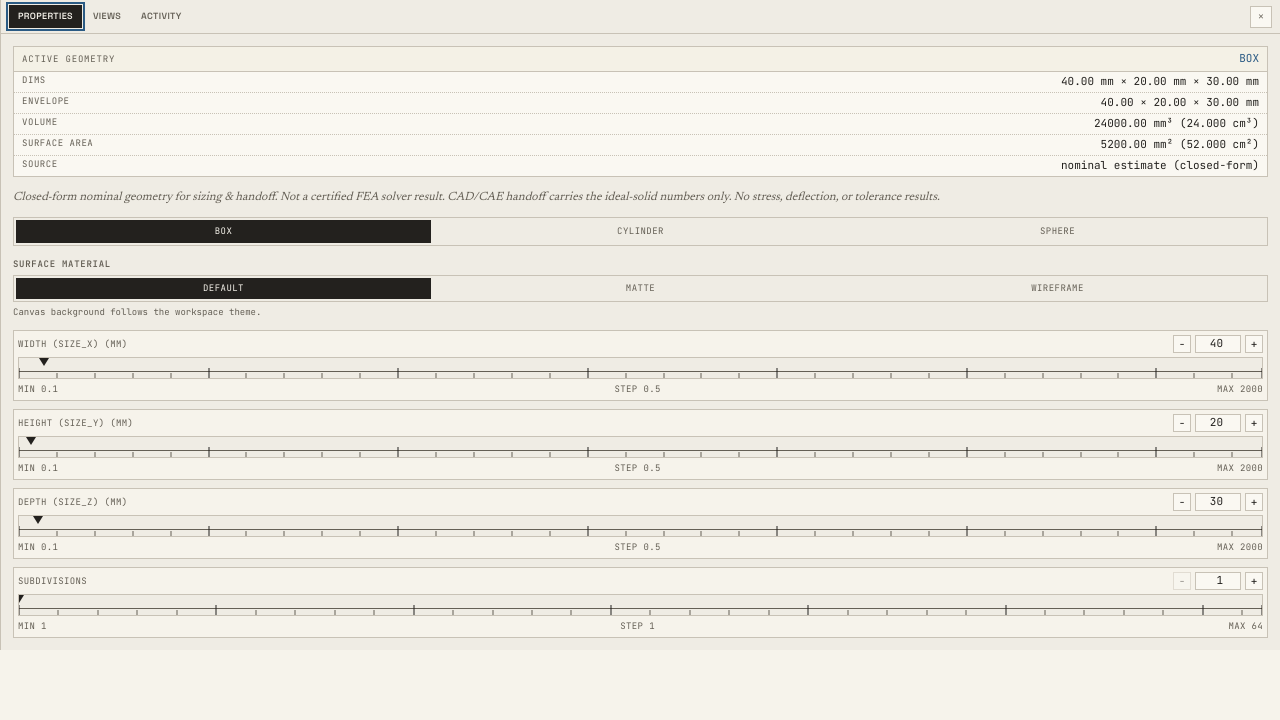
Scenario: details panel chrome › changes the visible section with the tab strip
The width and height of the screenshot is (1280, 720).
Click the tab "Views".
click(107, 16)  # box [84,5,130,28]
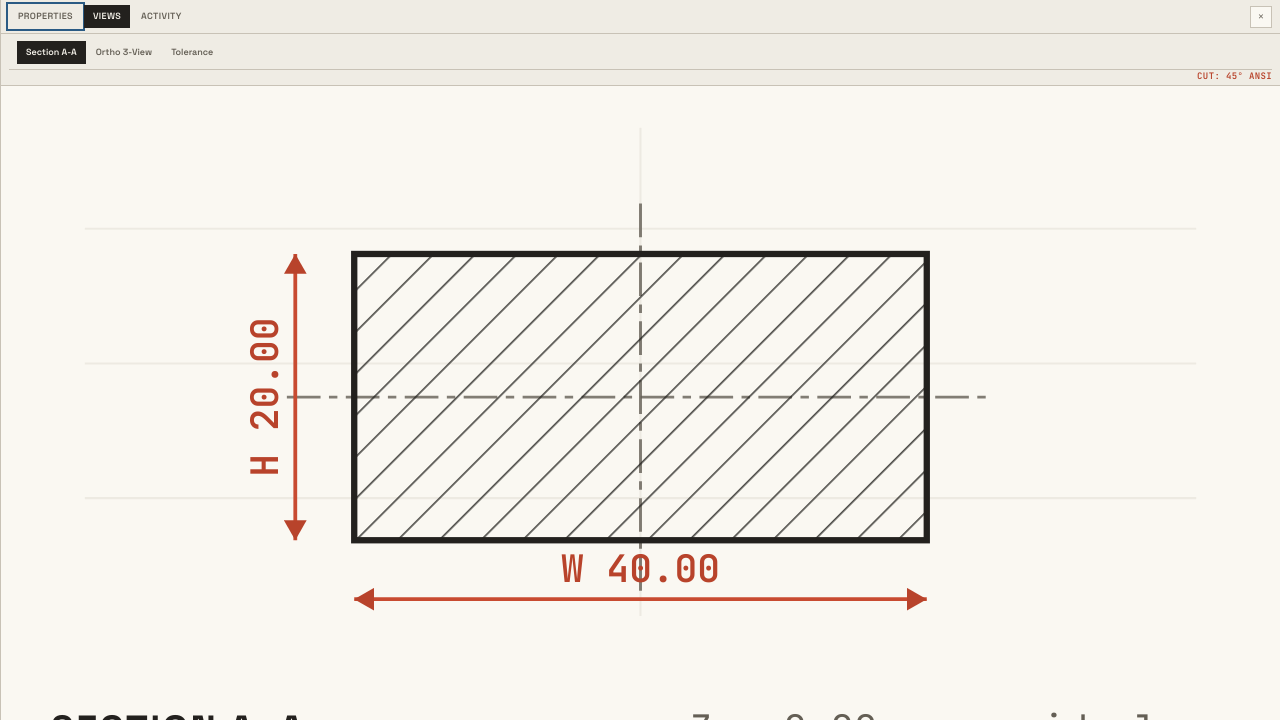
Result: the element with class "aux-view" is shown
Result: the element with class "details-geometry" is gone
Click the tab "Activity".
click(161, 16)  # box [132,5,191,28]
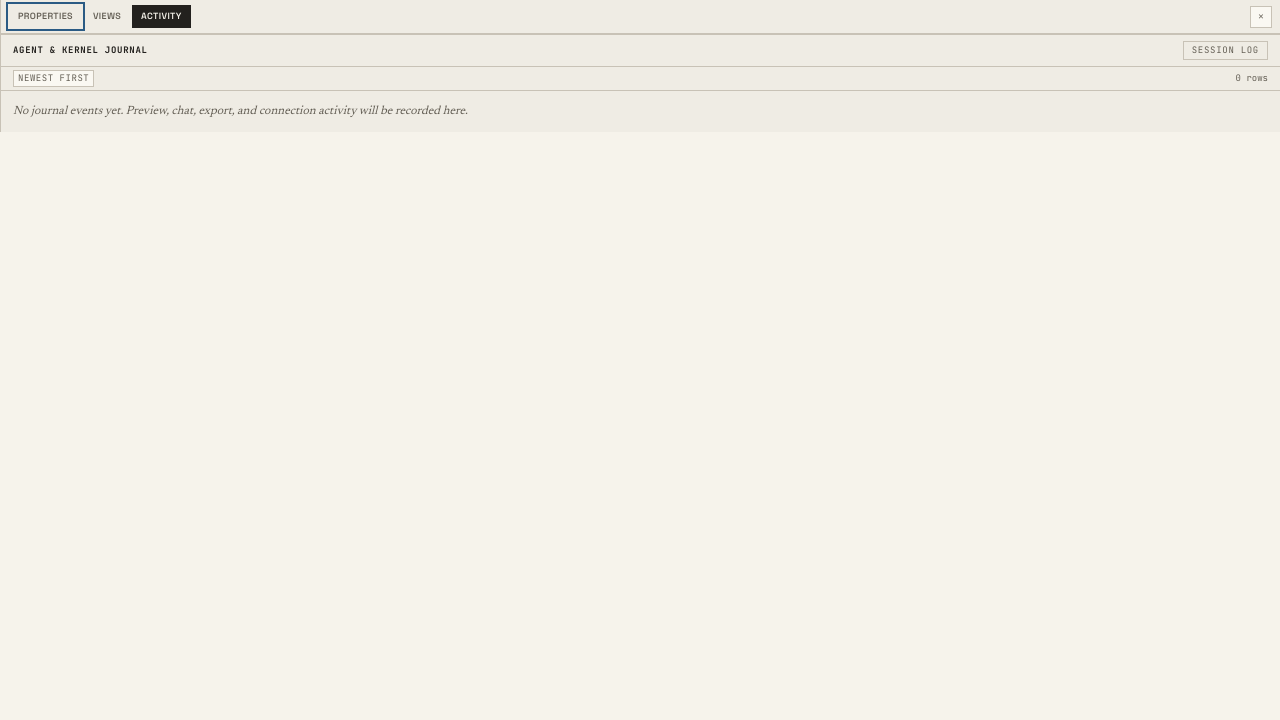
Result: the element with class "journal-panel" is shown at [1,34,1279,132]
